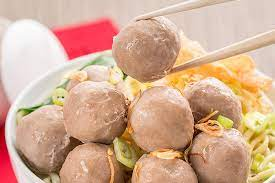bakso: (19, 27, 241, 183)
